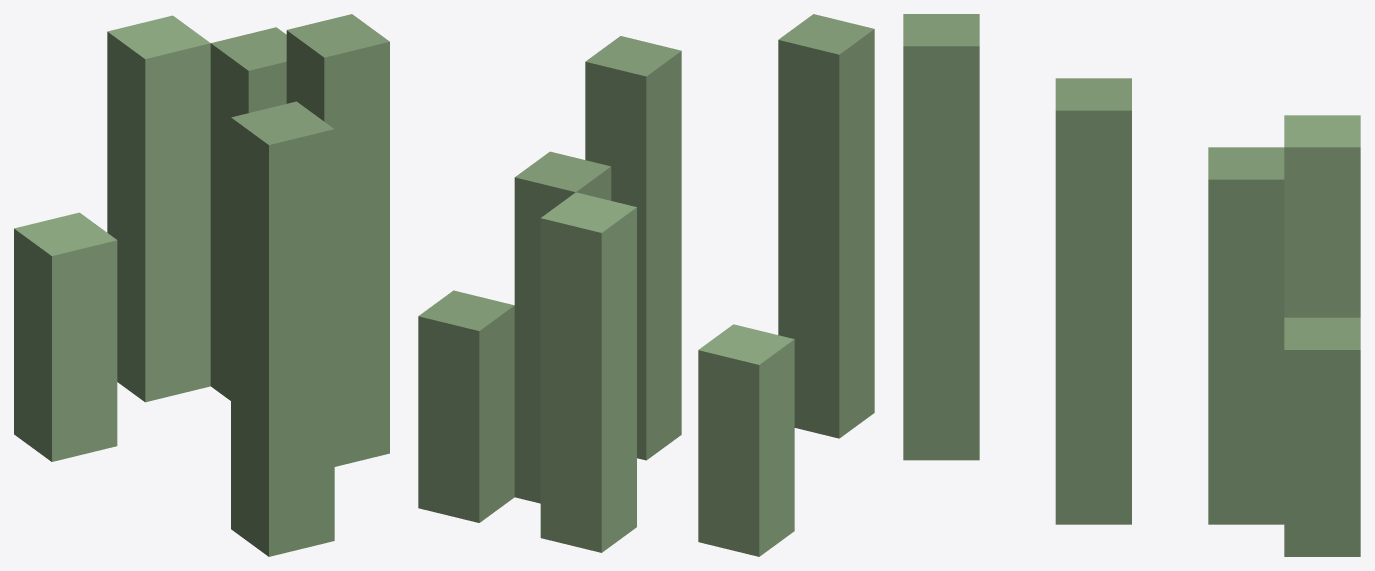
Rendered from pepino_silvestre_03.glb.
The picture shows the model from 3 angles, left to right: view 1: azimuth 30°, elevation 25°; view 2: azimuth 150°, elevation 25°; view 3: azimuth 270°, elevation 25°; orthographic projection. The views are drawn at different scales.
Parts seen in each view (by area): view 1: pepino_silvestre_03; view 2: pepino_silvestre_03; view 3: pepino_silvestre_03.
Part boxes in pixels (x1=…): pepino_silvestre_03: x1=14, y1=14, x2=389, y2=556; pepino_silvestre_03: x1=418, y1=14, x2=874, y2=556; pepino_silvestre_03: x1=903, y1=14, x2=1360, y2=556.
Bounding box in the file's own units: 0.5 × 0.6 × 0.6.
